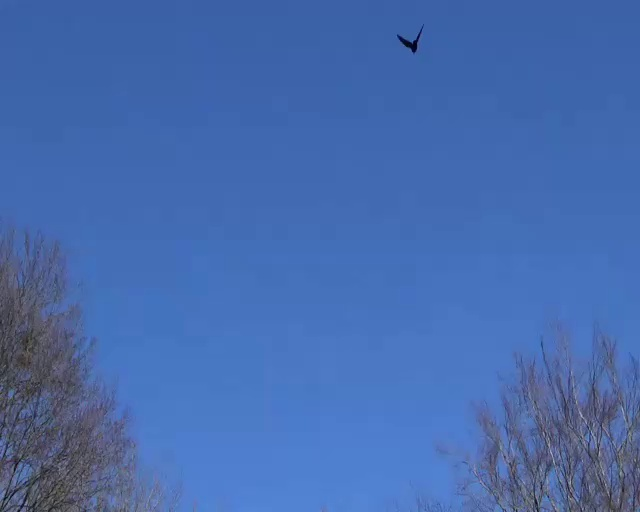BIRD: (396, 23, 425, 53)
